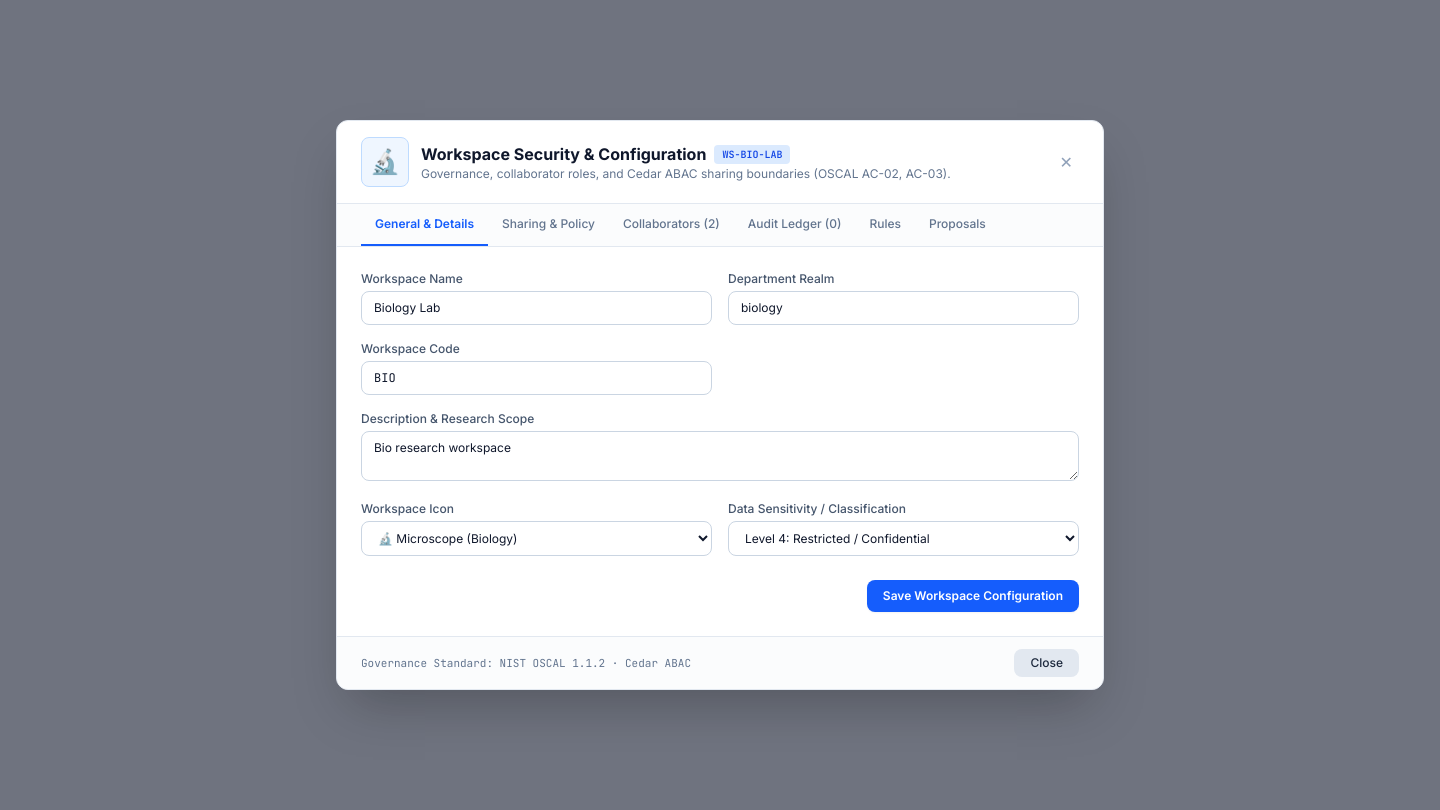
Test case: Workspace Guards Screen (Phase 3) › 3. When the impact response is empty, the drawer says No one is affected.
The image size is (1440, 810).
What coordinates should you click on to do the following:
click the button with test id "guard-rules"
I would click on:
 (885, 225)
Its box is top-left (855, 204), bottom-right (915, 246).
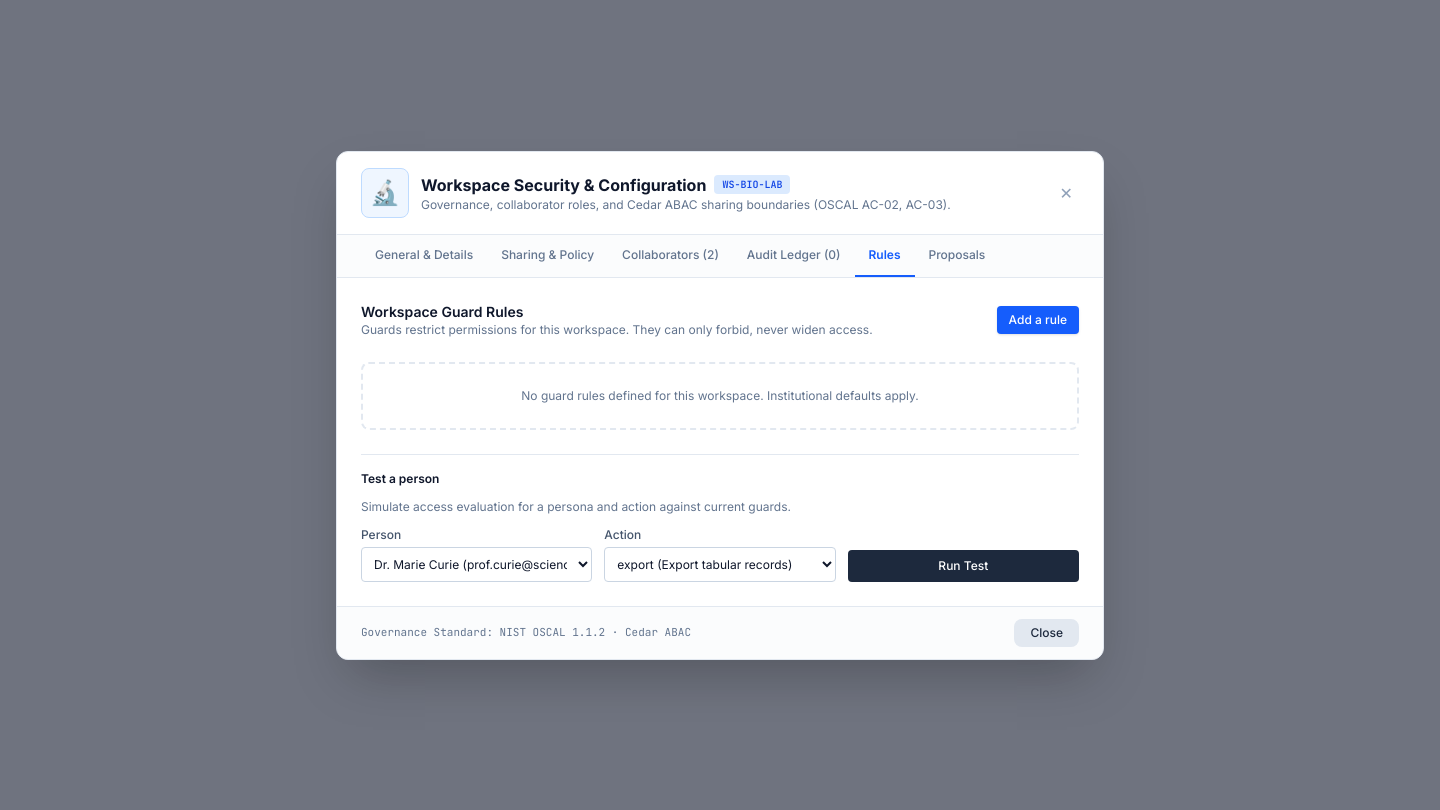
What coordinates should you click on to do the following:
click the button with test id "add-rule-btn"
I would click on:
 (1038, 320)
Its box is top-left (997, 306), bottom-right (1079, 334).
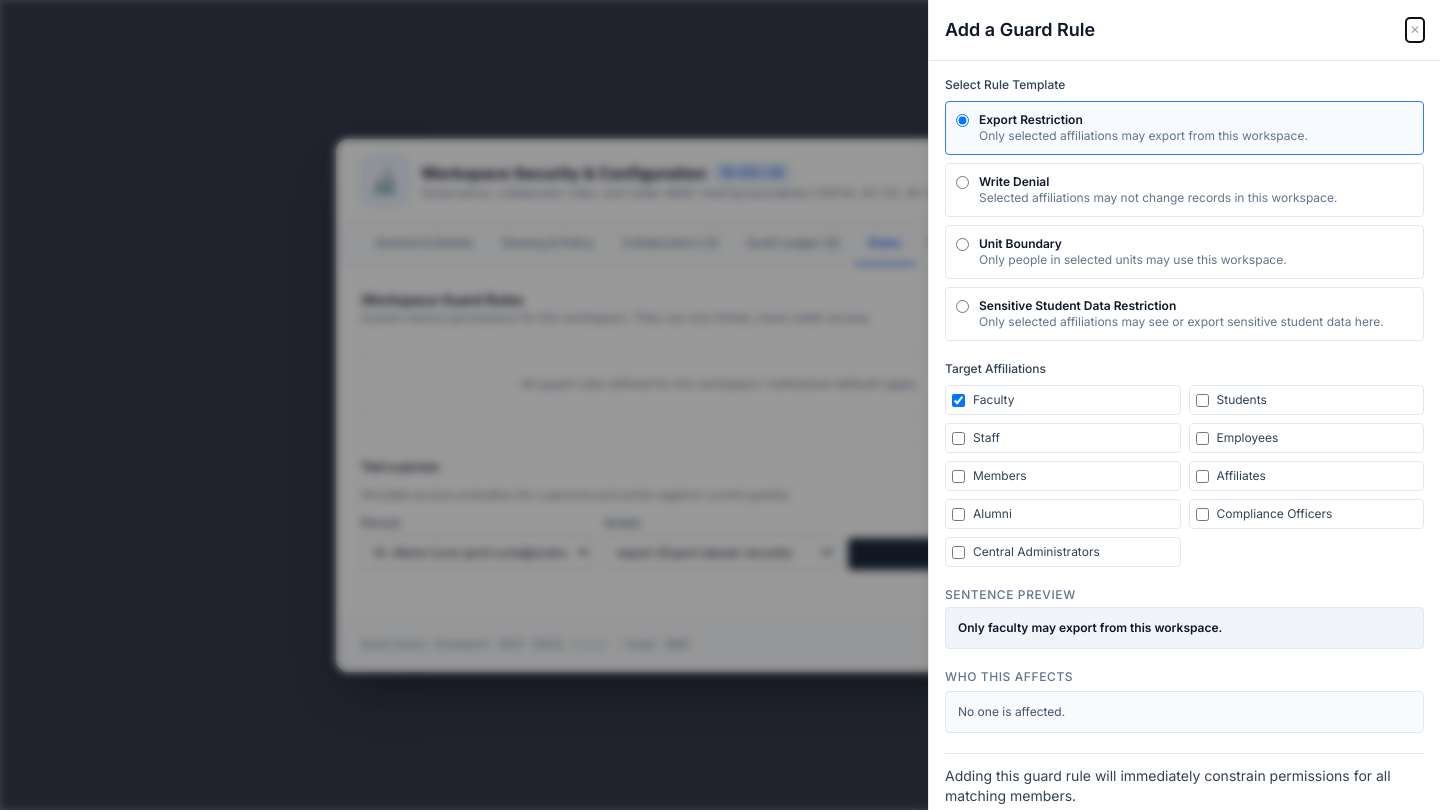
Expected: the text with test id "impact-summary" reads "No one is affected.", top-left (958, 704), bottom-right (1065, 719)
